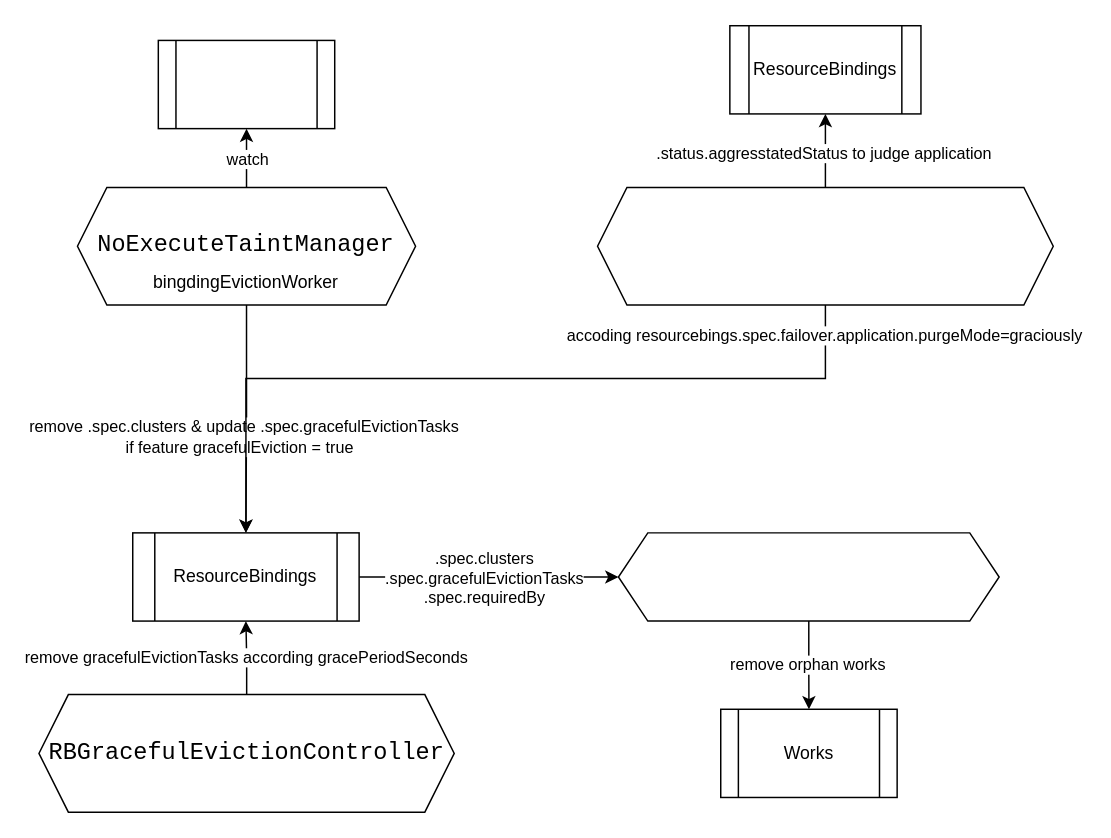
Some shapes in this 1111 by 838 pixel diagram are drawn without their labels. Here are the shapes that lost their labels. From the top down, the centre of each, then its label:
At point 246,84: "Cluster".
At point 824,245: "RBApplicationFailoverController".
At point 808,576: "ResourceBindingController".
